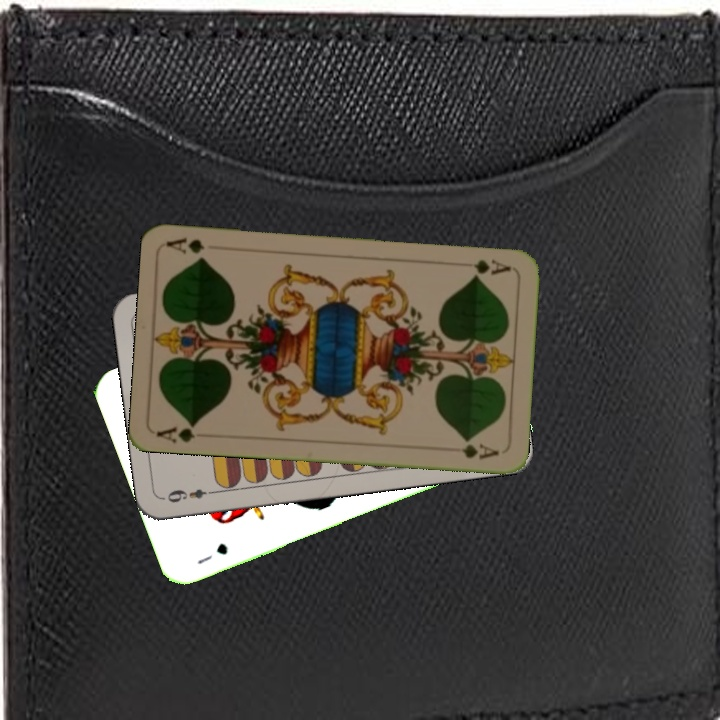E9: (163, 484, 220, 505)
GA: (455, 255, 514, 278), (153, 418, 199, 445)
GU: (193, 539, 231, 567)
